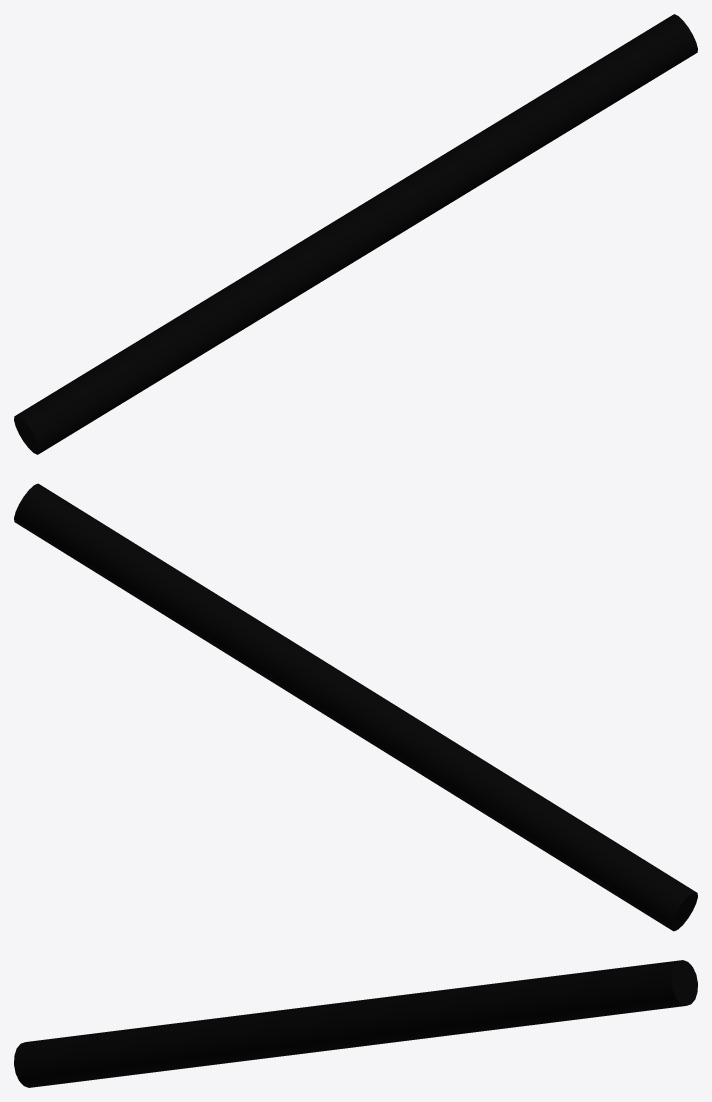
File: zx200-arm-cyl2.dae
The picture shows the model from 3 angles, top to bottom: view 1: azimuth 30°, elevation 25°; view 2: azimuth 150°, elevation 25°; view 3: azimuth 330°, elevation 25°; orthographic projection.
Visible parts, largest first — view 1: boom-arm-cyl2.002; view 2: boom-arm-cyl2.002; view 3: boom-arm-cyl2.002.
Boxes of the visible parts, x1,y1,x2,y2 form: boom-arm-cyl2.002: (14,14,697,454); boom-arm-cyl2.002: (14,483,697,931); boom-arm-cyl2.002: (14,960,697,1087).
Size of the model in its own units: 1.35 by 0.0896 by 0.5447.
1 material, 1 textured.
